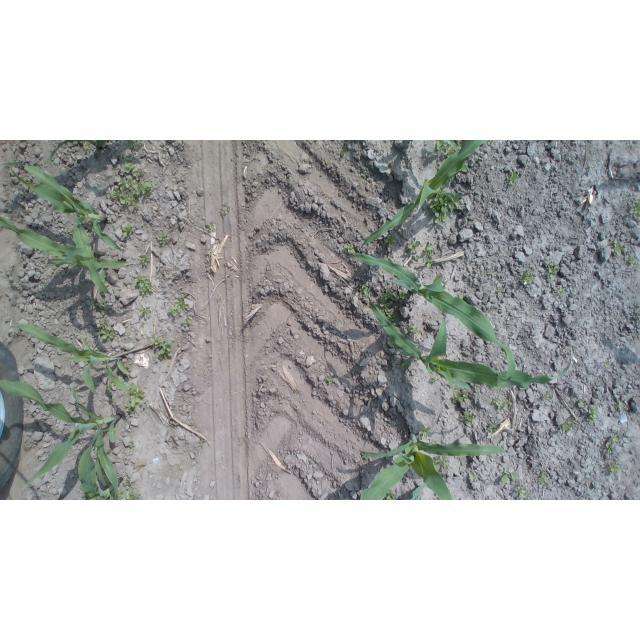Maize: (347, 253, 516, 382), (367, 293, 573, 393), (3, 161, 123, 296), (358, 140, 494, 248), (0, 378, 120, 486), (358, 433, 509, 500), (11, 324, 130, 397), (0, 218, 134, 268), (77, 426, 124, 500), (49, 141, 107, 164), (399, 484, 428, 501)
Weeds: (110, 177, 152, 207), (430, 189, 461, 224), (125, 382, 147, 414), (151, 335, 174, 362), (168, 294, 189, 316), (435, 141, 462, 158), (134, 273, 152, 295), (379, 301, 396, 323), (98, 319, 114, 342), (124, 162, 143, 181), (423, 242, 436, 267), (406, 239, 420, 260), (609, 238, 624, 256), (501, 469, 519, 484), (433, 455, 448, 472), (521, 269, 536, 285), (378, 288, 394, 302), (558, 417, 574, 431), (546, 261, 559, 278), (629, 198, 640, 218), (403, 324, 421, 336), (492, 399, 512, 409), (507, 171, 520, 186), (452, 391, 468, 403), (515, 484, 528, 498), (384, 234, 397, 247), (123, 223, 135, 237), (587, 407, 599, 421), (608, 462, 622, 474), (418, 423, 430, 437), (356, 284, 369, 296), (462, 412, 474, 424), (139, 305, 150, 318), (219, 203, 230, 216), (116, 365, 130, 375), (86, 219, 96, 233), (385, 489, 397, 500), (122, 478, 134, 489), (158, 233, 169, 244), (343, 244, 355, 254), (460, 160, 469, 173), (538, 472, 547, 485), (126, 492, 140, 500), (100, 298, 108, 312), (398, 289, 408, 300), (485, 425, 498, 433), (205, 222, 215, 232), (141, 255, 150, 266), (182, 317, 192, 326), (402, 360, 411, 370), (117, 491, 126, 500), (556, 288, 566, 296), (606, 443, 614, 453), (131, 141, 142, 148), (93, 298, 100, 309), (628, 258, 636, 267), (610, 434, 619, 442), (82, 141, 90, 150), (105, 449, 113, 458), (326, 376, 334, 384), (106, 384, 113, 393), (362, 453, 371, 460), (469, 471, 476, 479), (199, 440, 205, 449), (603, 361, 610, 368), (579, 399, 586, 406), (456, 294, 464, 300), (430, 377, 438, 383), (544, 395, 552, 401), (361, 173, 370, 178), (68, 229, 75, 235), (387, 337, 393, 344), (617, 402, 623, 409), (119, 151, 126, 157), (339, 149, 345, 155), (82, 495, 90, 499), (487, 270, 493, 275), (93, 443, 97, 450), (21, 195, 26, 200), (498, 290, 503, 295), (590, 166, 595, 170), (128, 442, 132, 447), (638, 311, 640, 320), (17, 164, 20, 167), (95, 456, 98, 459)
